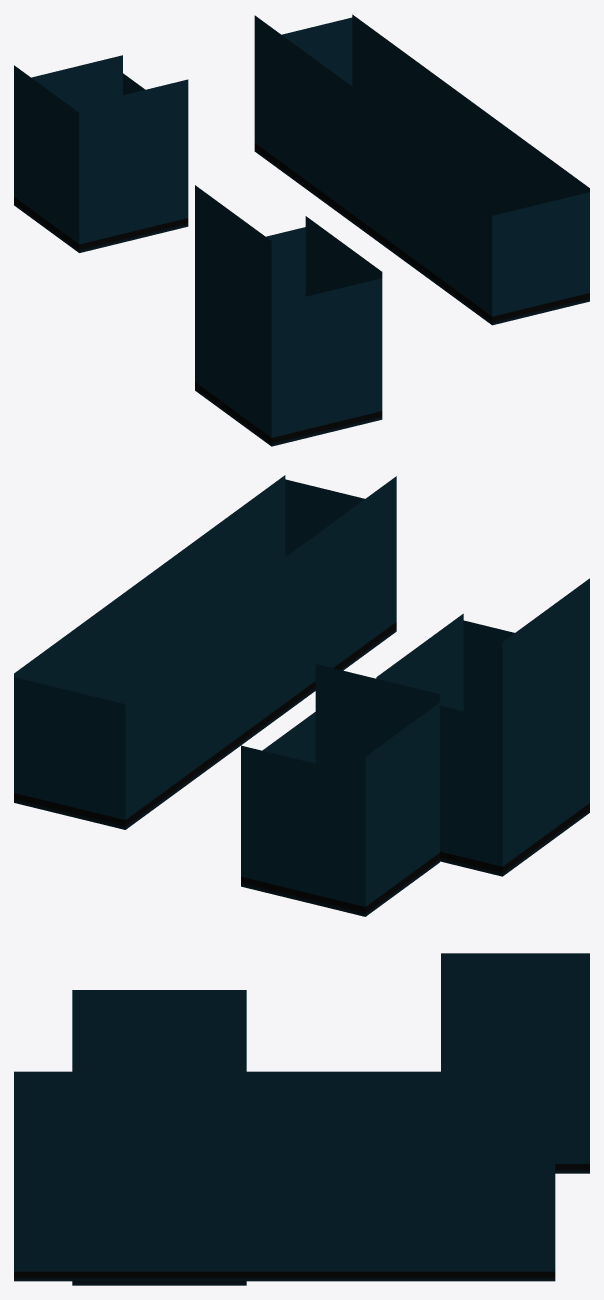
Rendered from ceiling_b.glb.
3 renders of one model, top to bottom at view 1: azimuth 30°, elevation 25°; view 2: azimuth 150°, elevation 25°; view 3: azimuth 270°, elevation 25°, orthographic. The views are drawn at different scales.
Visible parts, largest first — view 1: ceiling_skirt, tiles; view 2: ceiling_skirt, tiles; view 3: ceiling_skirt, tiles.
Boxes of the visible parts, left/top/right/bottom form: ceiling_skirt: left=14, top=14, right=589, bottom=437; tiles: left=14, top=143, right=589, bottom=446; ceiling_skirt: left=14, top=475, right=589, bottom=906; tiles: left=14, top=622, right=589, bottom=916; ceiling_skirt: left=14, top=953, right=589, bottom=1271; tiles: left=14, top=1164, right=589, bottom=1285.
Bounding box in the file's own units: 1.17 × 0.7915 × 1.58.
